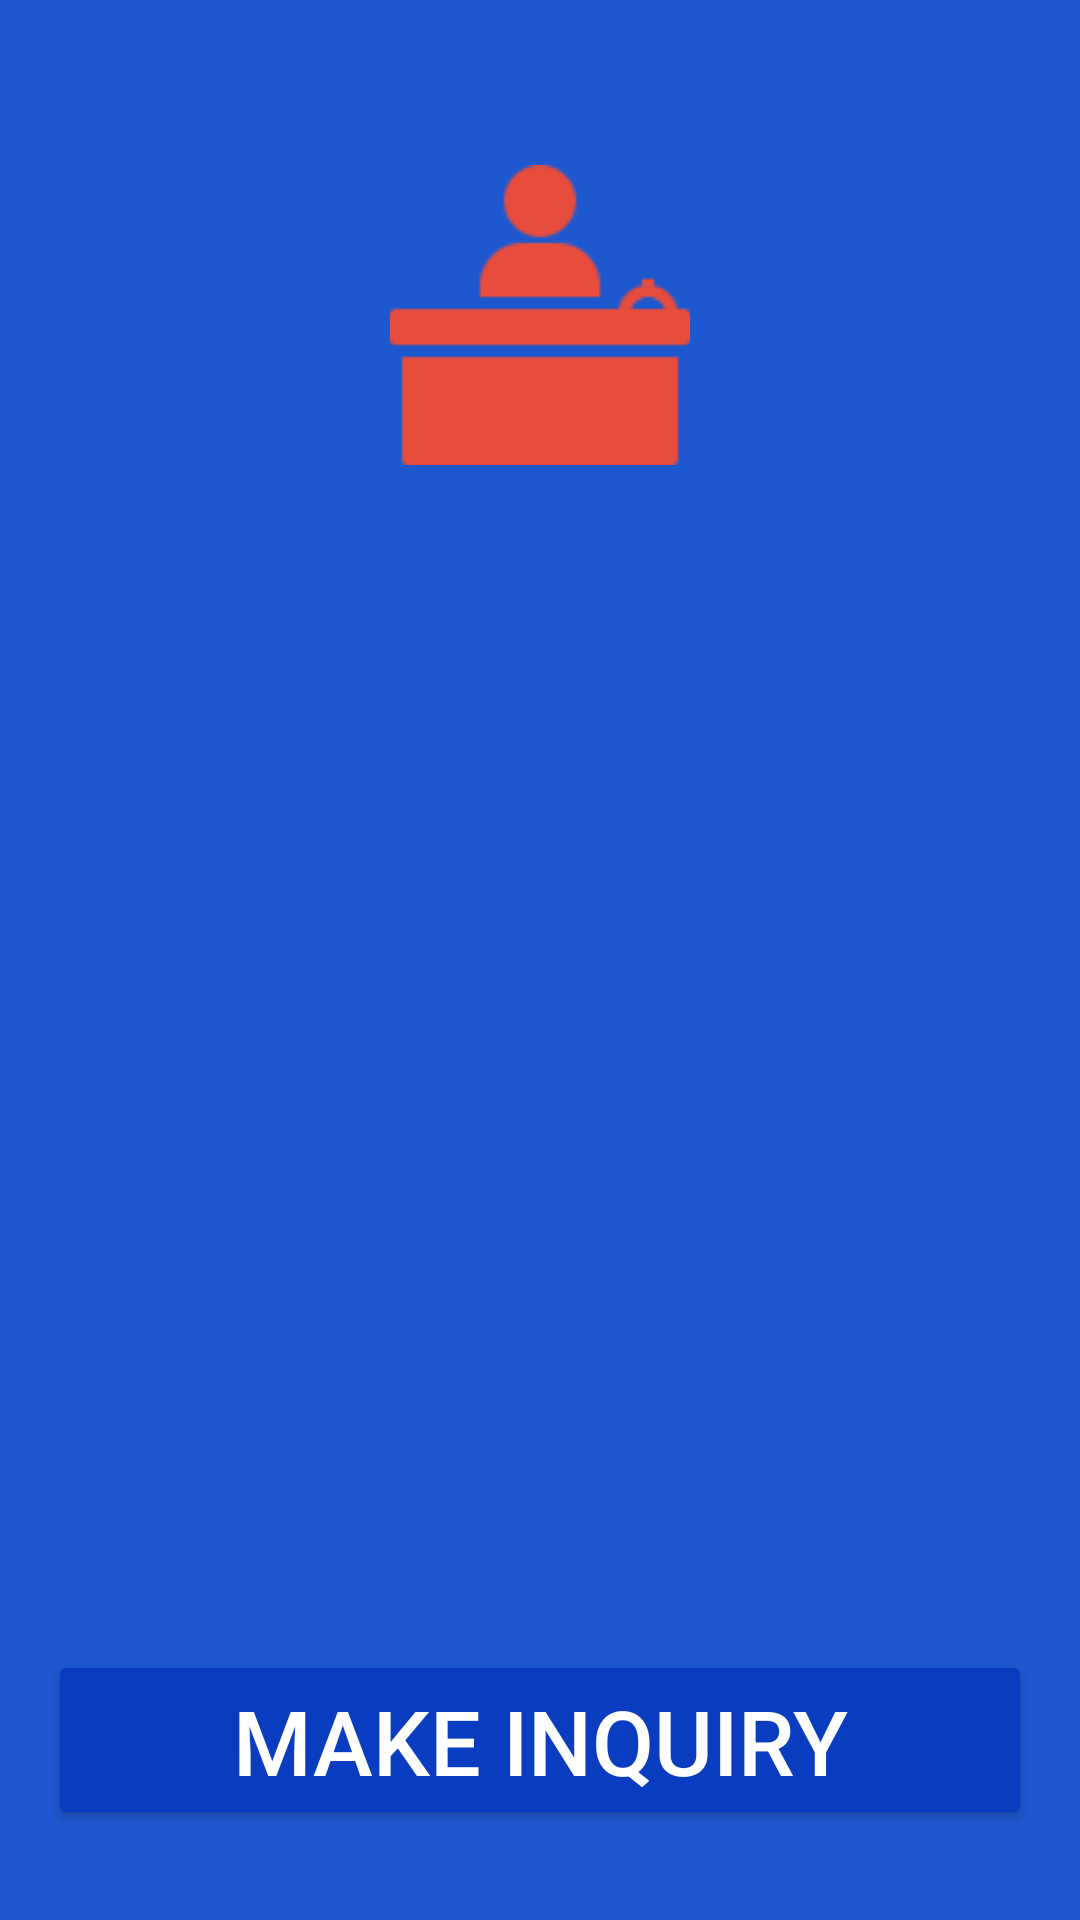

Icon click points for this 1080x1920 phone screenshot, format (x,y):
redfrontdesk: (540,315)
